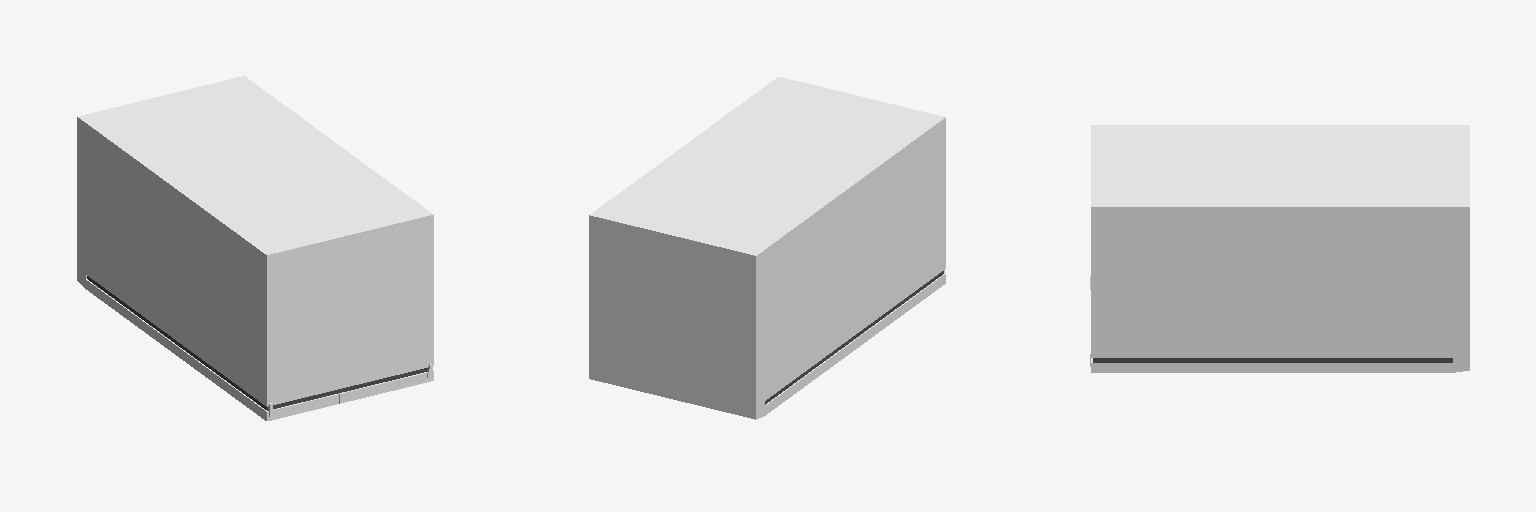
The model's file is cat24_refrigerator.obj.
3 views of the same model, side by side, from view 1: azimuth 30°, elevation 25°; view 2: azimuth 150°, elevation 25°; view 3: azimuth 270°, elevation 25° (orthographic).
Parts seen in each view (by area): view 1: Group#17, Group#18, Group#16; view 2: Group#17, Component#1, Group#18, Group#16; view 3: Group#17, Group#18, Group#16.
Boxes of the visible parts, x1=… form: Group#17: x1=77, y1=76, x2=433, y2=406; Group#18: x1=86, y1=279, x2=433, y2=420; Group#16: x1=87, y1=276, x2=428, y2=410; Group#17: x1=589, y1=77, x2=945, y2=406; Component#1: x1=589, y1=367, x2=764, y2=419; Group#18: x1=765, y1=273, x2=945, y2=415; Group#16: x1=765, y1=271, x2=943, y2=404; Group#17: x1=1091, y1=125, x2=1469, y2=357; Group#18: x1=1091, y1=358, x2=1452, y2=372; Group#16: x1=1093, y1=358, x2=1452, y2=362.
Size of the model in its own units: 35.52 by 36.57 by 70.06.